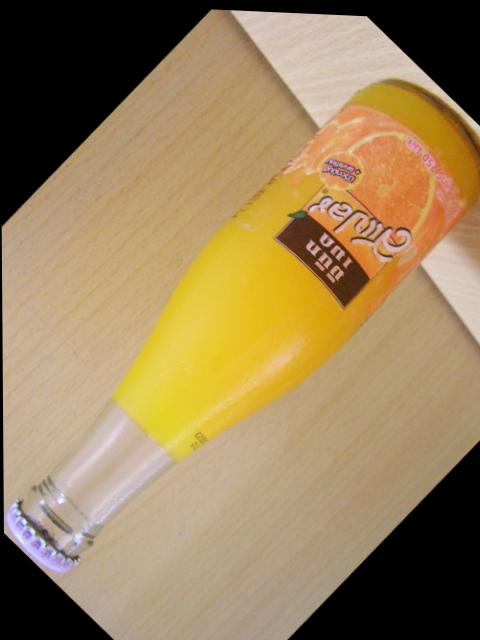glass: (3, 12, 479, 639)
